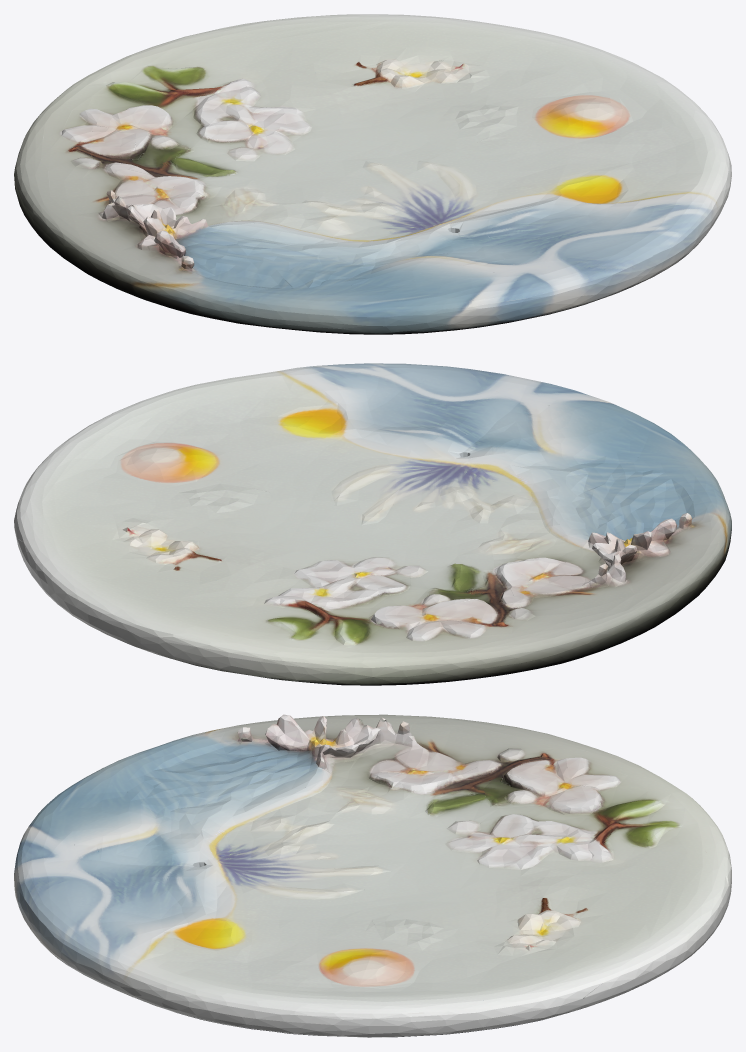
File: porcelain-letter-opener-japanese.jpeg.glb
3 renders of one model, top to bottom at view 1: azimuth 30°, elevation 25°; view 2: azimuth 150°, elevation 25°; view 3: azimuth 270°, elevation 25°, orthographic.
Parts seen in each view (by area): view 1: world; view 2: world; view 3: world.
Part boxes in pixels (x1,y1,x2,y2): world: (14, 14, 731, 334); world: (14, 363, 731, 685); world: (14, 714, 731, 1037).
Size of the model in its own units: 1 by 0.0772 by 1.
Materials: 1 (1 with a texture image).
